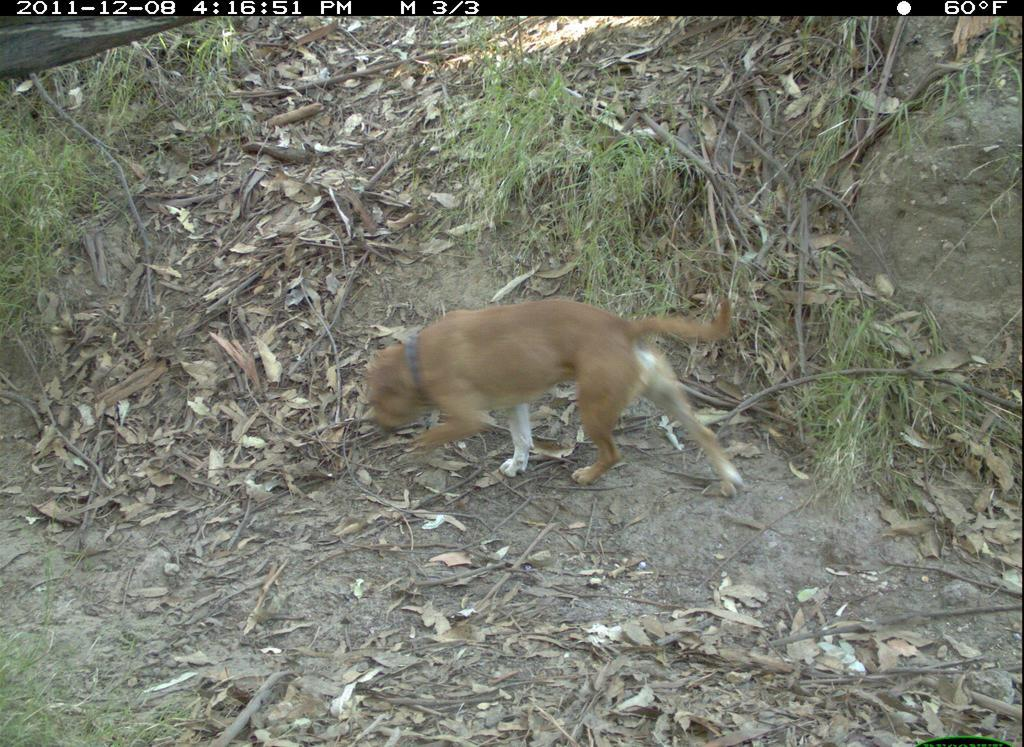dog: (346, 289, 776, 516)
